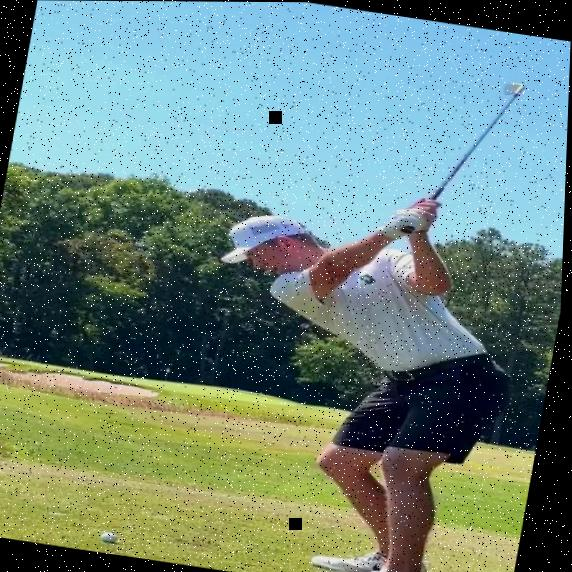ClubHead: (503, 79, 525, 98)
GolfBall: (103, 532, 123, 544)
